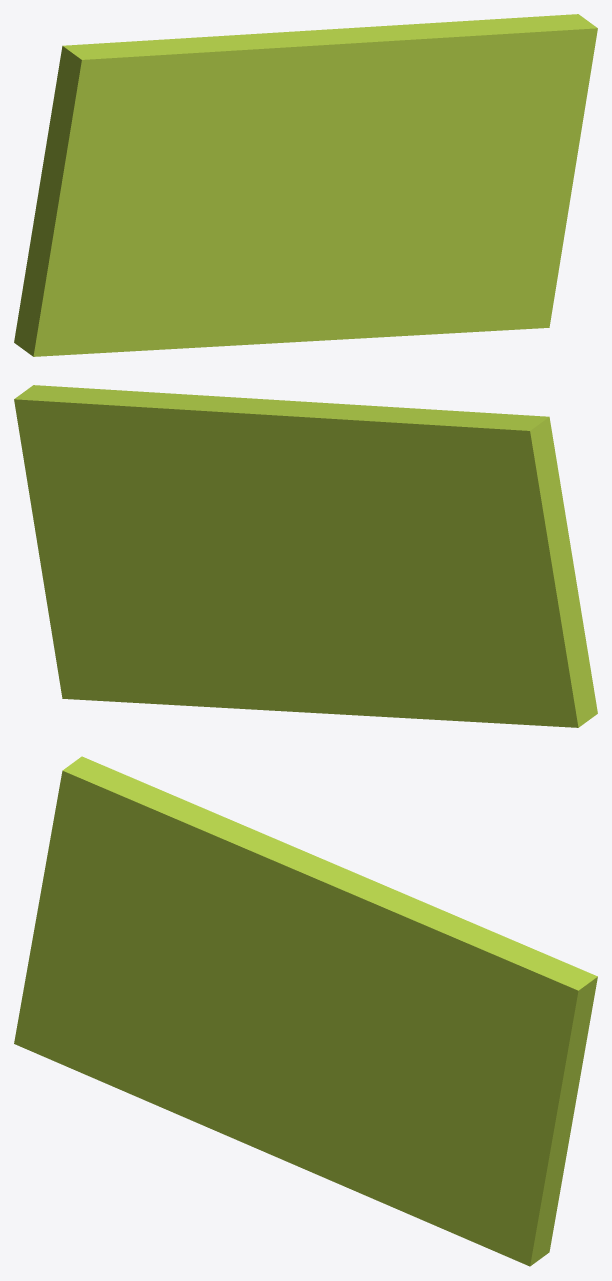
The picture shows the model from 3 angles, top to bottom: view 1: azimuth 30°, elevation 25°; view 2: azimuth 150°, elevation 25°; view 3: azimuth 330°, elevation 25°; orthographic projection.
Parts seen in each view (by area): view 1: osm-way27917482-F3; view 2: osm-way27917482-F3; view 3: osm-way27917482-F3.
Boxes of the visible parts, x1=… form: osm-way27917482-F3: x1=14, y1=14, x2=597, y2=356; osm-way27917482-F3: x1=14, y1=385, x2=597, y2=727; osm-way27917482-F3: x1=14, y1=756, x2=597, y2=1266.
Bounding box in the file's own units: 2.51 × 1.62 × 0.15.
